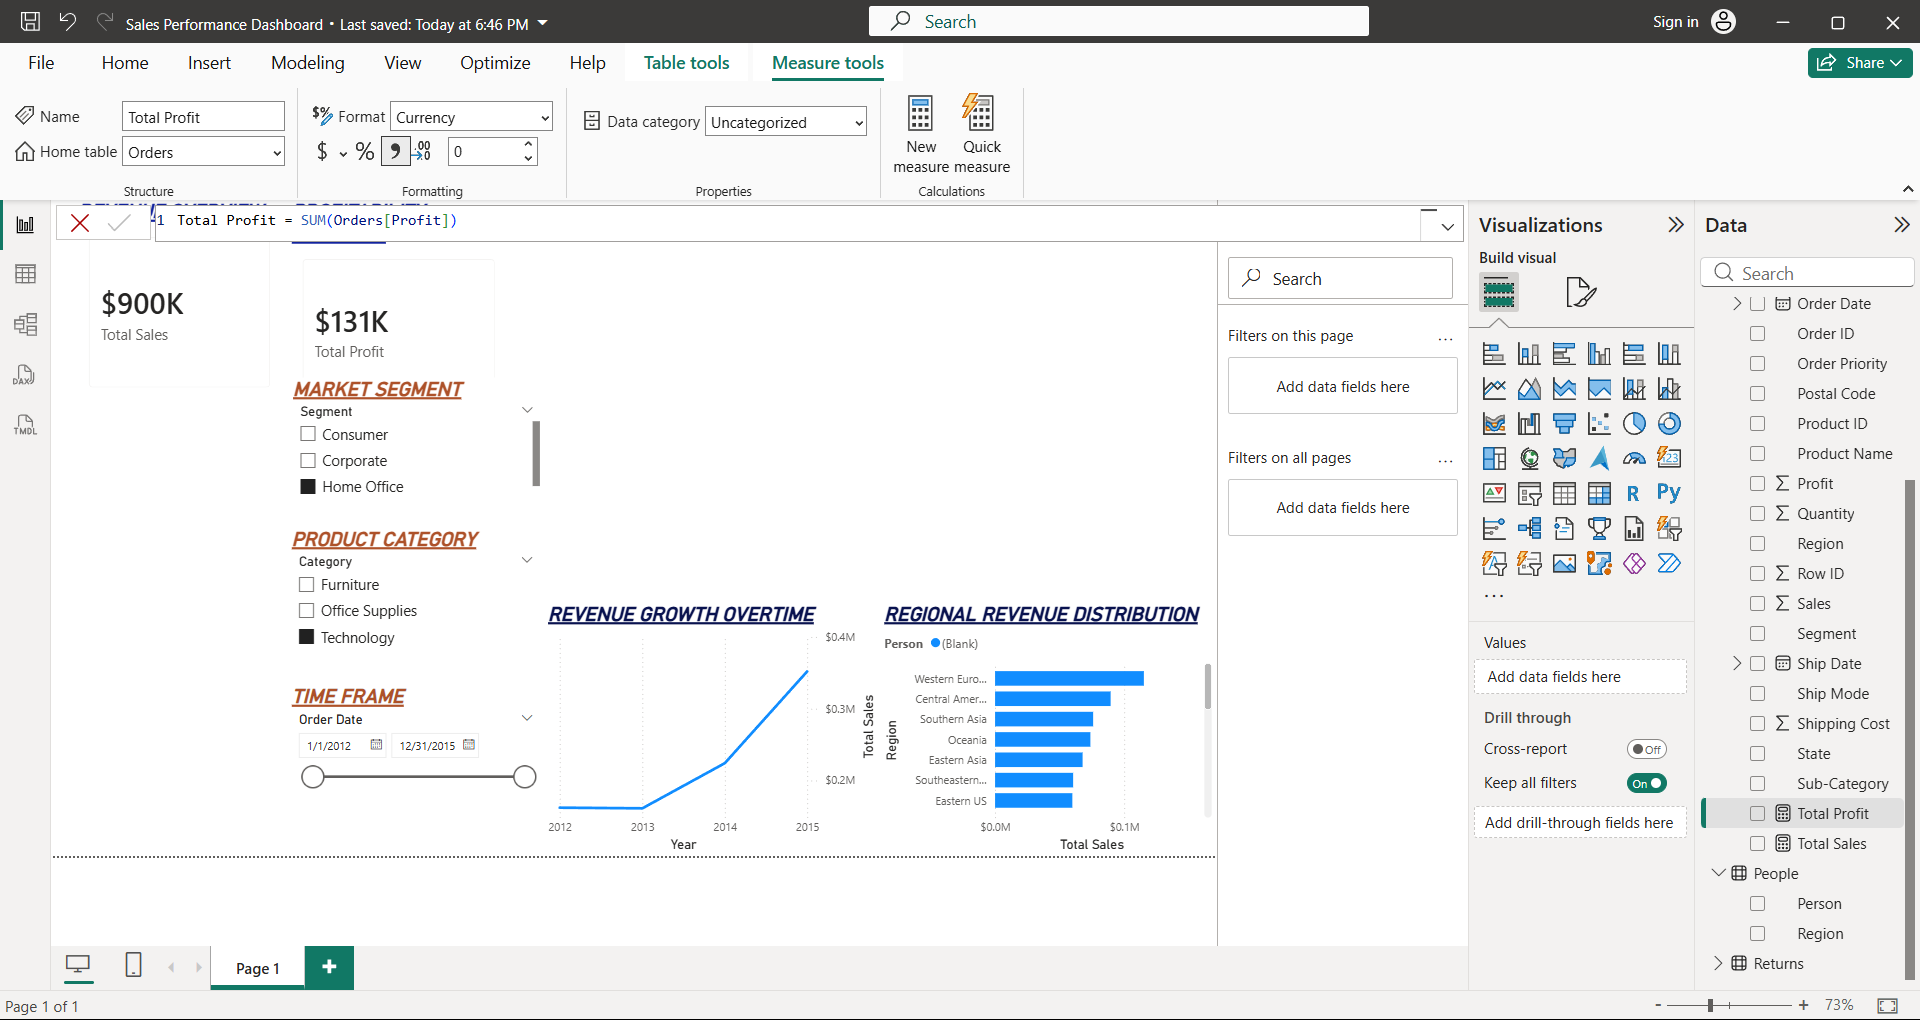

The page's visual inventory and layout, read from the dashboard file:
{"tool":"powerbi","page":{"name":"Page 1","canvas":[1280,720],"ordinal":0},"visuals":[{"type":"cardVisual","title":"REVENUE OVERVIEW","fields":{"Data":["Orders.Total Sales"]},"box":[25.2,0,233.5,223.4],"z":0},{"type":"cardVisual","title":"PROFITABILITY OVERVIEW","fields":{"Data":["Orders.Total Profit"]},"box":[258.7,0,245.2,236.9],"z":1},{"type":"clusteredBarChart","title":"REGIONAL REVENUE DISTRIBUTION","fields":{"Category":["Orders.Region"],"Y":["Orders.Total Sales"],"Series":["People.Person"]},"box":[910.4,441.8,369.6,278.8],"z":2},{"type":"lineChart","title":"REVENUE GROWTH OVERTIME","fields":{"Category":["Orders.Order Date.Variation.Date Hierarchy.Year","Orders.Order Date.Variation.Date Hierarchy.Quarter","Orders.Order Date.Variation.Date Hierarchy.Month","Orders.Order Date.Variation.Date Hierarchy.Day"],"Y2":["Orders.Total Sales"]},"box":[540.9,441.8,369.6,278.8],"z":3},{"type":"slicer","title":"TIME FRAME","fields":{"Values":["Orders.Order Date"]},"box":[258.7,532.5,282.2,188.1],"z":4},{"type":"slicer","title":"PRODUCT CATEGORY","fields":{"Values":["Orders.Category"]},"box":[258.7,359.5,282.2,151.2],"z":5},{"type":"slicer","title":"MARKET SEGMENT","fields":{"Values":["Orders.Segment"]},"box":[258.7,223.4,282.2,136.1],"z":6}]}

Visuals, with their boxes on the page's 1280x720 design canvas (x1, y1, x2, y2). These are canvas units, not pixel positions in the 1920x1020 screenshot, which may show the page scaled, cropped or inside an application window:
"REVENUE OVERVIEW" cardVisual: {"left": 25, "top": 0, "right": 259, "bottom": 223}
"PROFITABILITY OVERVIEW" cardVisual: {"left": 259, "top": 0, "right": 504, "bottom": 237}
"REGIONAL REVENUE DISTRIBUTION" clusteredBarChart: {"left": 910, "top": 442, "right": 1280, "bottom": 721}
"REVENUE GROWTH OVERTIME" lineChart: {"left": 541, "top": 442, "right": 910, "bottom": 721}
"TIME FRAME" slicer: {"left": 259, "top": 532, "right": 541, "bottom": 721}
"PRODUCT CATEGORY" slicer: {"left": 259, "top": 360, "right": 541, "bottom": 511}
"MARKET SEGMENT" slicer: {"left": 259, "top": 223, "right": 541, "bottom": 360}
